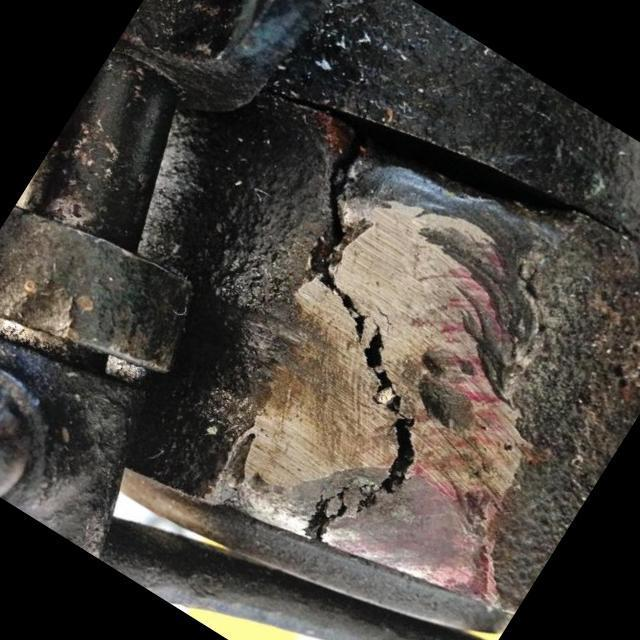defect: (299, 126, 431, 562)
